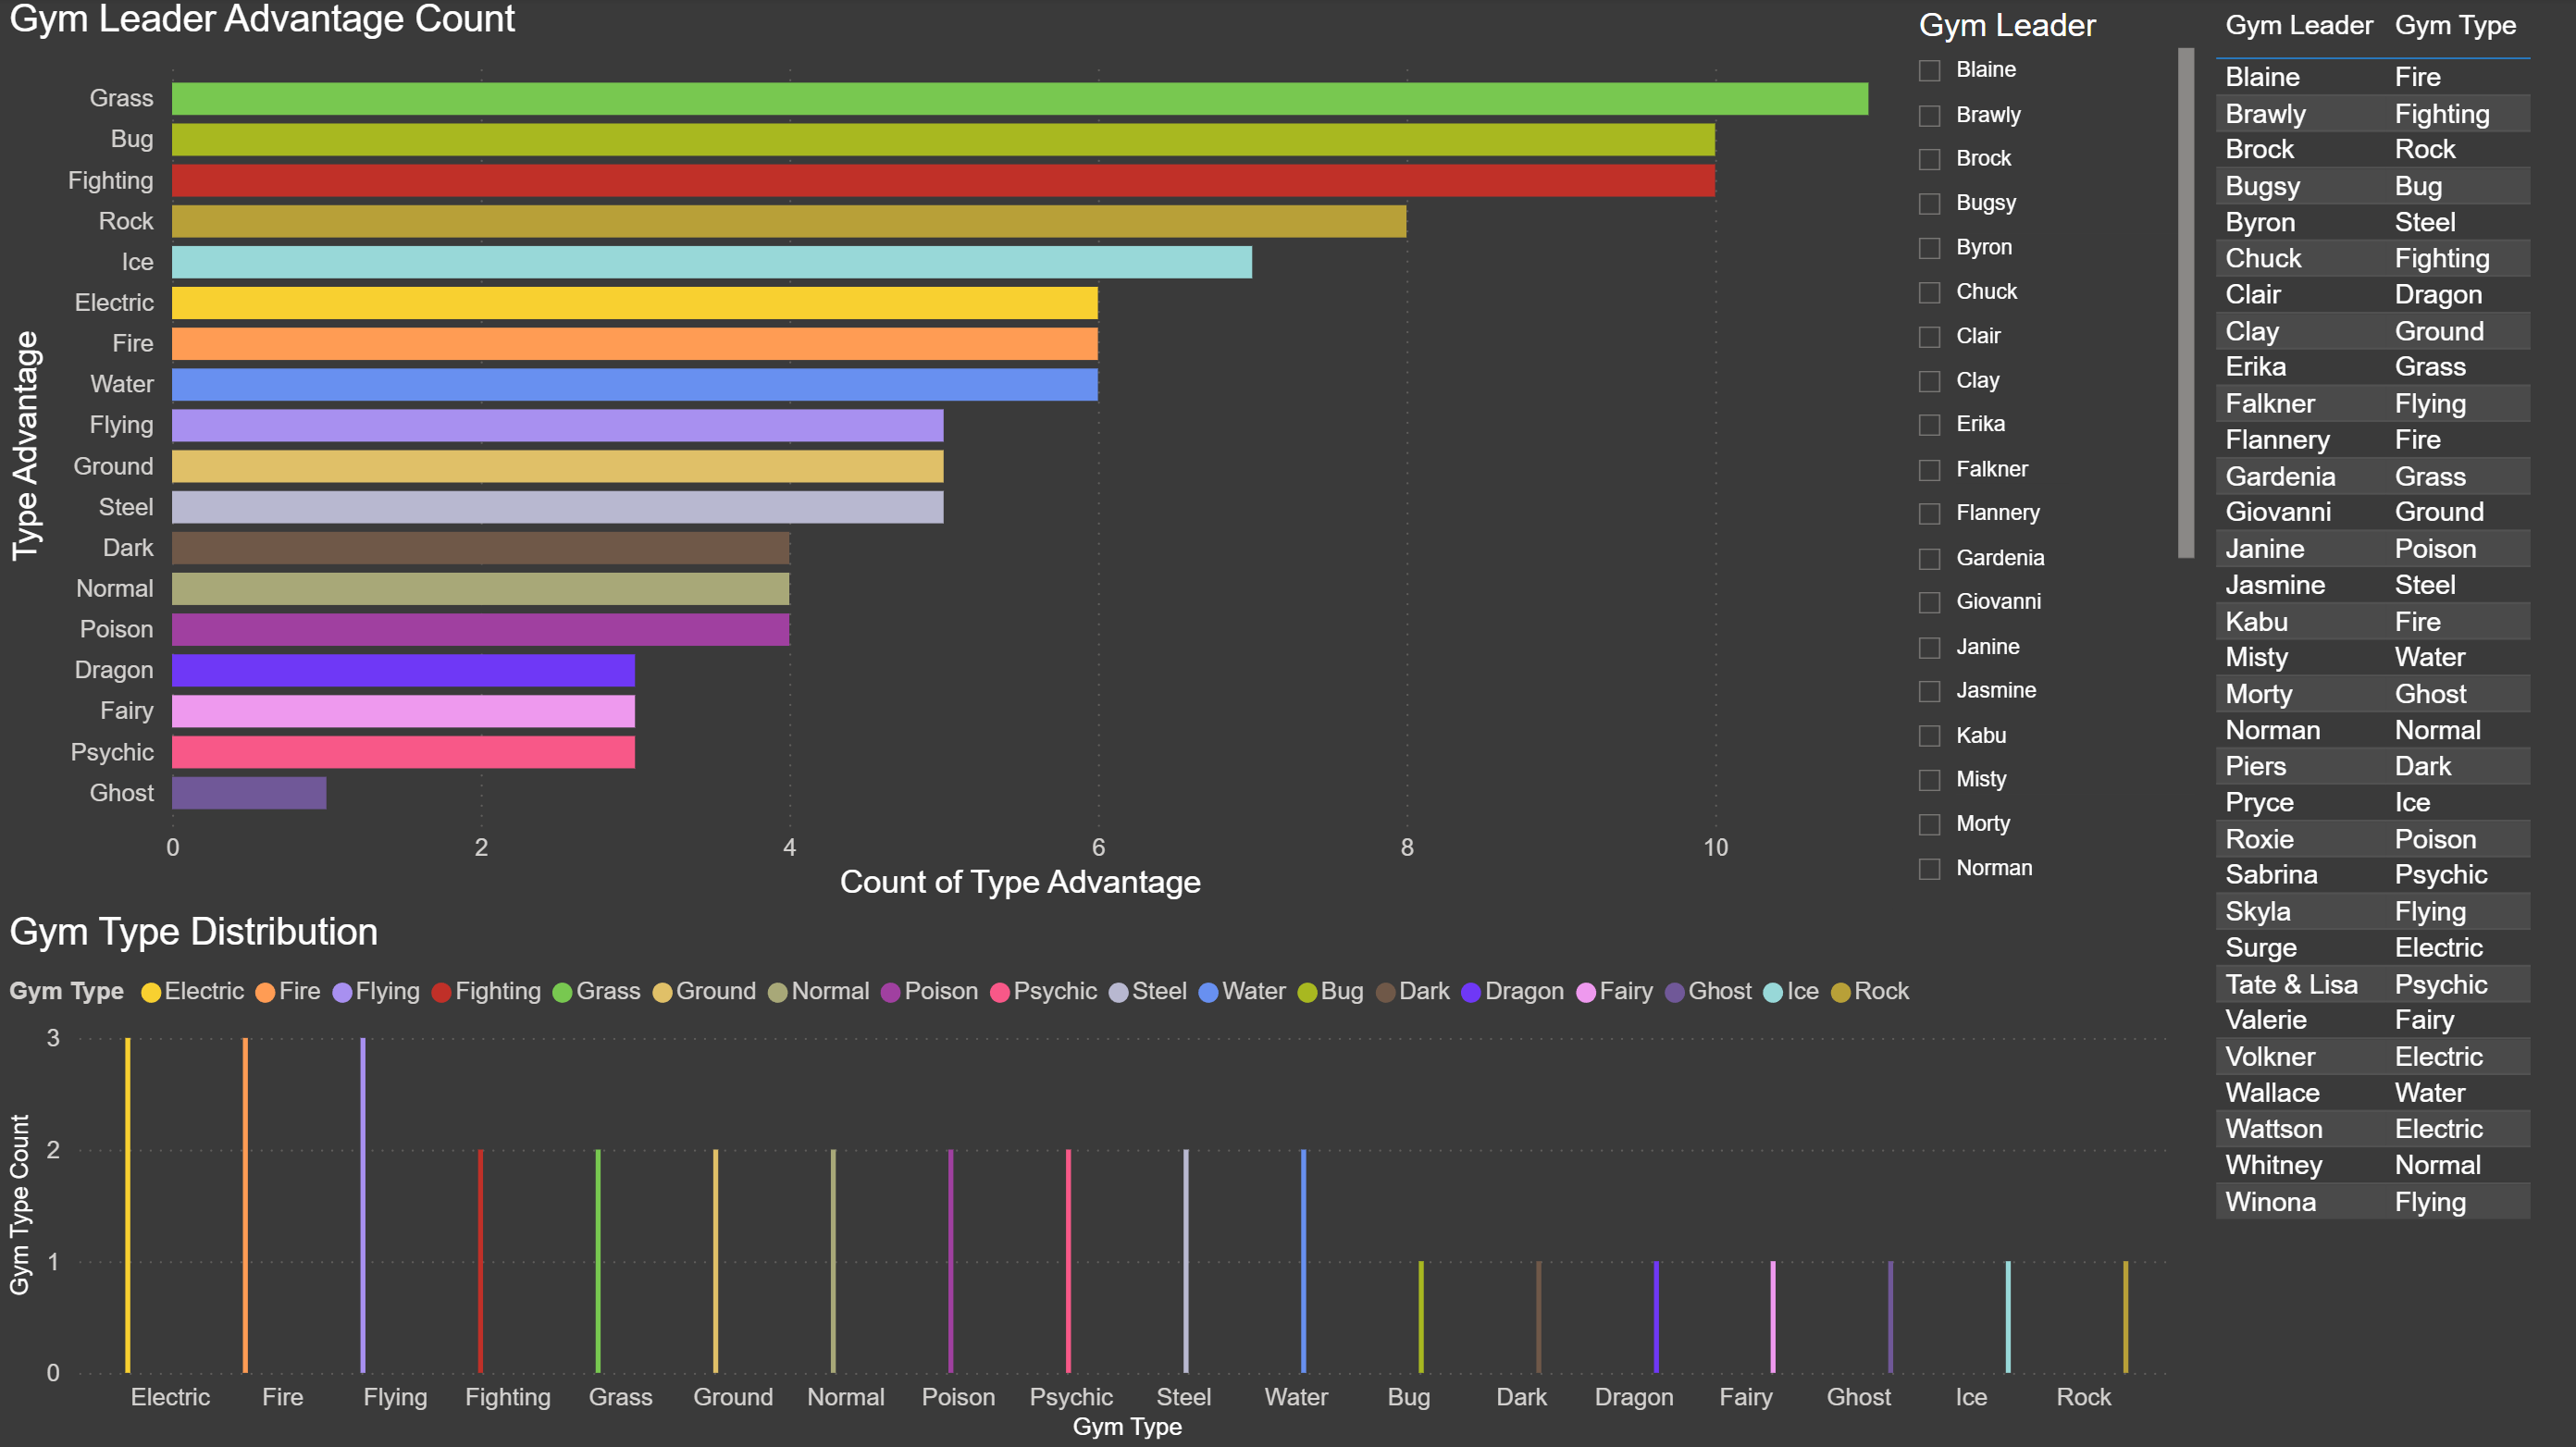

The page's visual inventory and layout, read from the dashboard file:
{"tool":"powerbi","page":{"name":"Gym Leaders","canvas":[1280,720],"ordinal":5},"visuals":[{"type":"slicer","fields":{"Values":["Gym Leaders.Gym Leader"]},"box":[939.9,0,154.6,452.8],"z":0},{"type":"barChart","title":"Gym Leader Advantage Count","fields":{"Category":["Gym Leaders.Type Advantages"],"Y":["CountNonNull(Gym Leaders.Type Advantages)"],"Series":["Gym Leaders.Type Advantages"]},"box":[0,0,939.9,452.8],"z":1000},{"type":"tableEx","fields":{"Values":["Gym Leader and Location.Gym Leader","Gym Leaders.Gym Type"]},"box":[1094.5,0,185.3,698.2],"z":2000},{"type":"clusteredColumnChart","title":"Gym Type Distribution","fields":{"Category":["Gym Leaders.Gym Type"],"Y":["Measures Table.Count of Gym Types"],"Series":["Gym Leaders.Gym Type"]},"box":[0,452.8,1084.7,267.5],"z":3000}]}

Visuals, with their boxes in screenshot pixels (x1, y1, x2, y2), scaled from the page's 1280x720 canvas onto the 2576x1447 screenshot:
slicer - Gym Leaders.Gym Leader: (1891,0,2203,910)
"Gym Leader Advantage Count" barChart: (0,0,1891,910)
tableEx - Gym Leader and Location.Gym Leader x Gym Leaders.Gym Type: (2203,0,2575,1404)
"Gym Type Distribution" clusteredColumnChart: (0,910,2183,1446)
